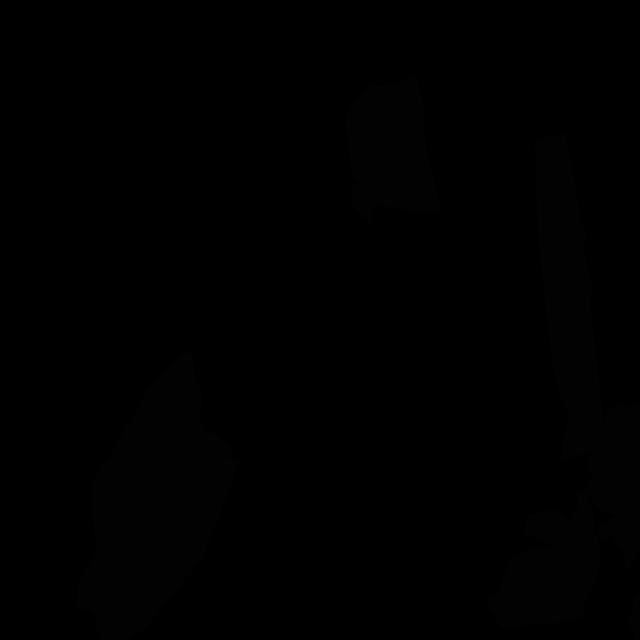cardboard: (76, 352, 239, 640), (534, 133, 605, 461), (488, 490, 601, 628), (345, 74, 442, 224), (584, 403, 640, 569), (628, 595, 640, 640)
